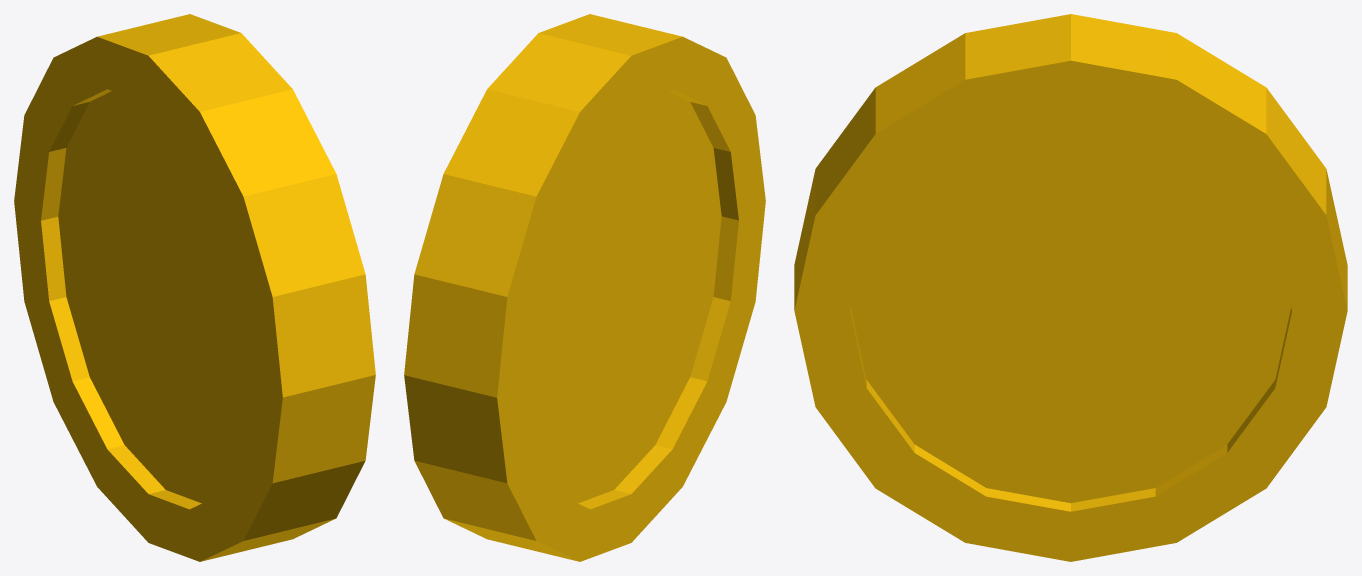
The model's file is coin_block.glb.
3 views of the same model, side by side, from view 1: azimuth 30°, elevation 25°; view 2: azimuth 150°, elevation 25°; view 3: azimuth 270°, elevation 25° (orthographic). The views are drawn at different scales.
Visible parts, largest first — view 1: Coin; view 2: Coin; view 3: Coin.
Boxes of the visible parts, x1,y1,x2,y2 form: Coin: (14, 14, 375, 561); Coin: (404, 14, 765, 561); Coin: (794, 14, 1347, 561).
Bounding box in the file's own units: 0.0999 × 0.5 × 0.5.
Materials: 1 (1 with a texture image).
